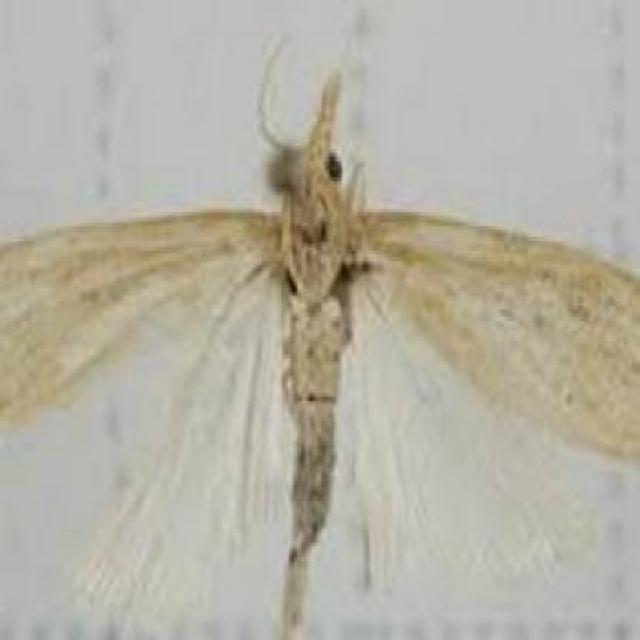stem-borer: (0, 63, 640, 617)
